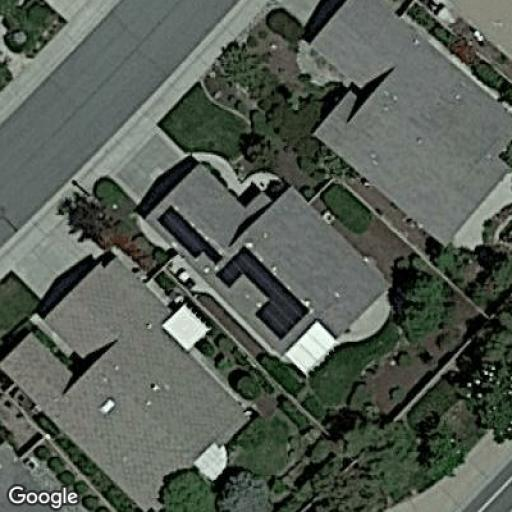solar-panel: (214, 244, 311, 340), (154, 203, 222, 266)
